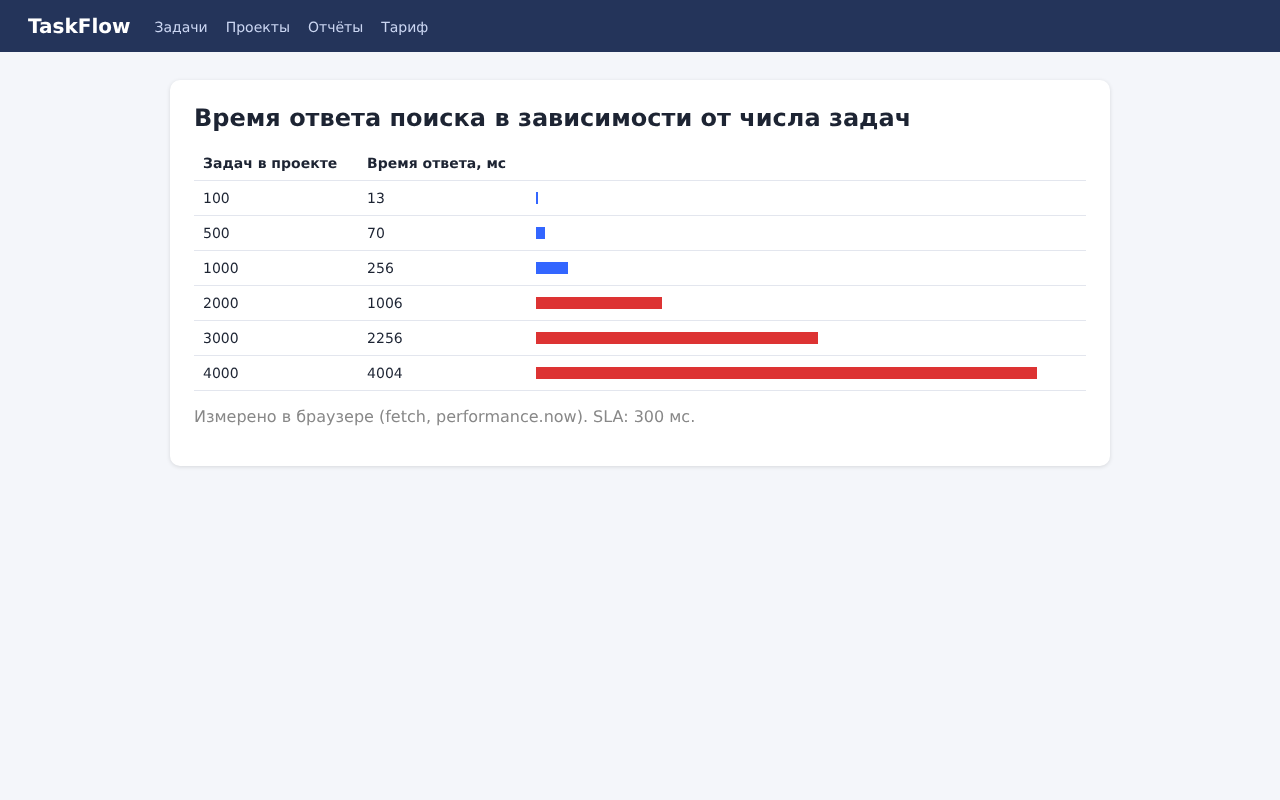CHART: (536, 192, 1037, 379)
DEFECT_AREA: (194, 286, 1086, 390)
STATUS_INDICATOR: (195, 409, 694, 426)
